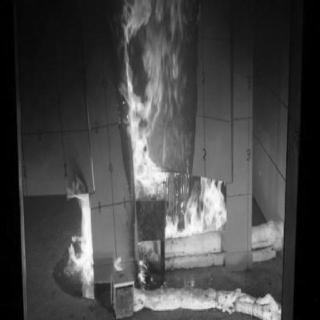Fire: (63, 174, 96, 290)
